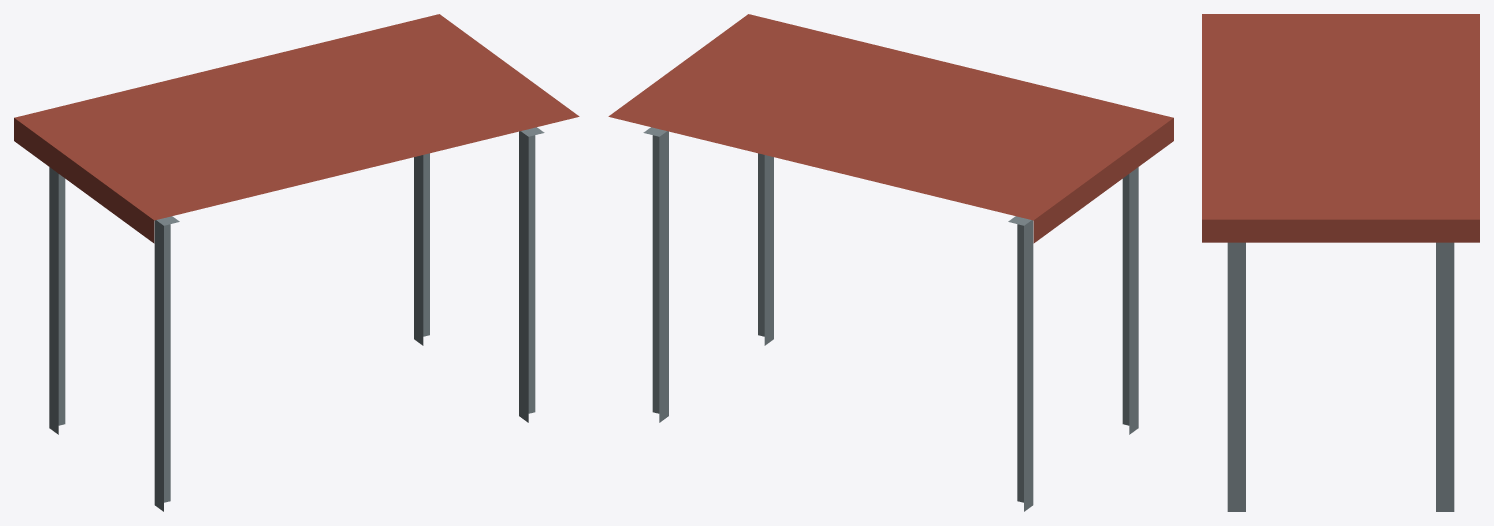
Rendered from canopy.glb.
3 views of the same model, side by side, from view 1: azimuth 30°, elevation 25°; view 2: azimuth 150°, elevation 25°; view 3: azimuth 270°, elevation 25° (orthographic).
Bounding box in the file's own units: 4.2 × 2.89 × 2.4.
